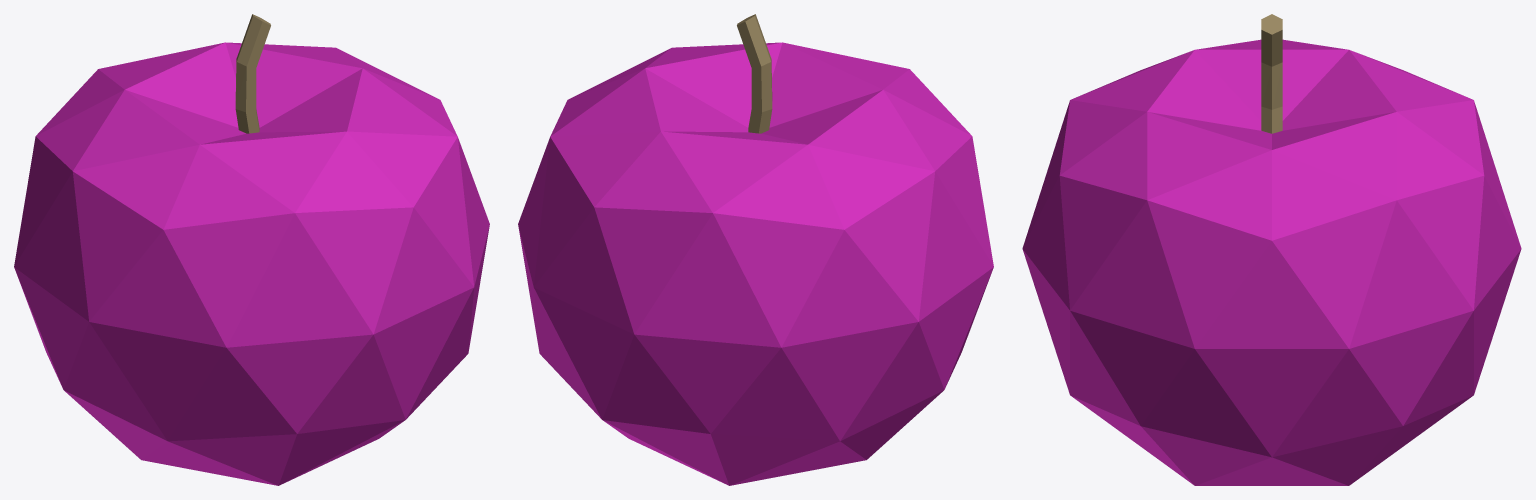
File: Apple.obj
The picture shows the model from 3 angles, left to right: view 1: azimuth 30°, elevation 25°; view 2: azimuth 150°, elevation 25°; view 3: azimuth 270°, elevation 25°; orthographic projection. The views are drawn at different scales.
Visible parts, largest first — view 1: GeoSphere, Cylinder001; view 2: GeoSphere, Cylinder001; view 3: GeoSphere, Cylinder001.
Part boxes in pixels (x1=…): GeoSphere: x1=14, y1=42, x2=489, y2=485; Cylinder001: x1=235, y1=14, x2=270, y2=133; GeoSphere: x1=518, y1=42, x2=993, y2=485; Cylinder001: x1=737, y1=14, x2=772, y2=133; GeoSphere: x1=1022, y1=39, x2=1521, y2=485; Cylinder001: x1=1261, y1=14, x2=1282, y2=133.
Bounding box in the file's own units: 3.32 × 3.56 × 3.49.
